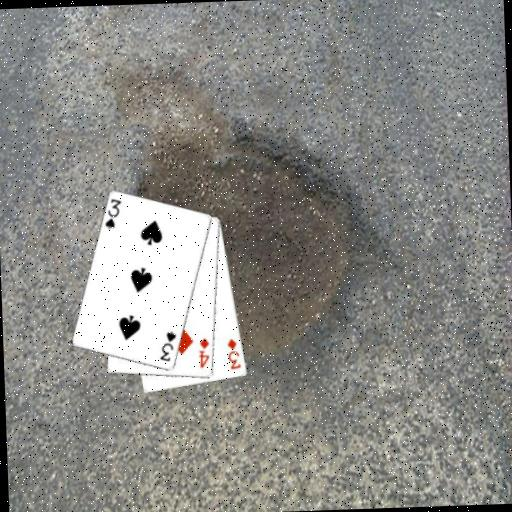3D: (224, 335, 242, 371)
3S: (155, 328, 178, 364), (101, 195, 123, 230)
4D: (195, 335, 211, 370)
